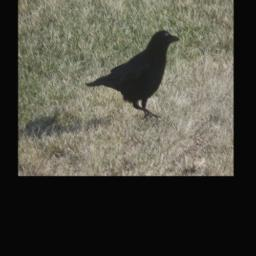Crow: (87, 27, 183, 118)
